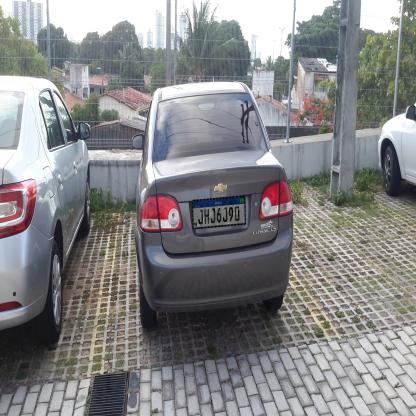PlacaM: (192, 196, 246, 230)
